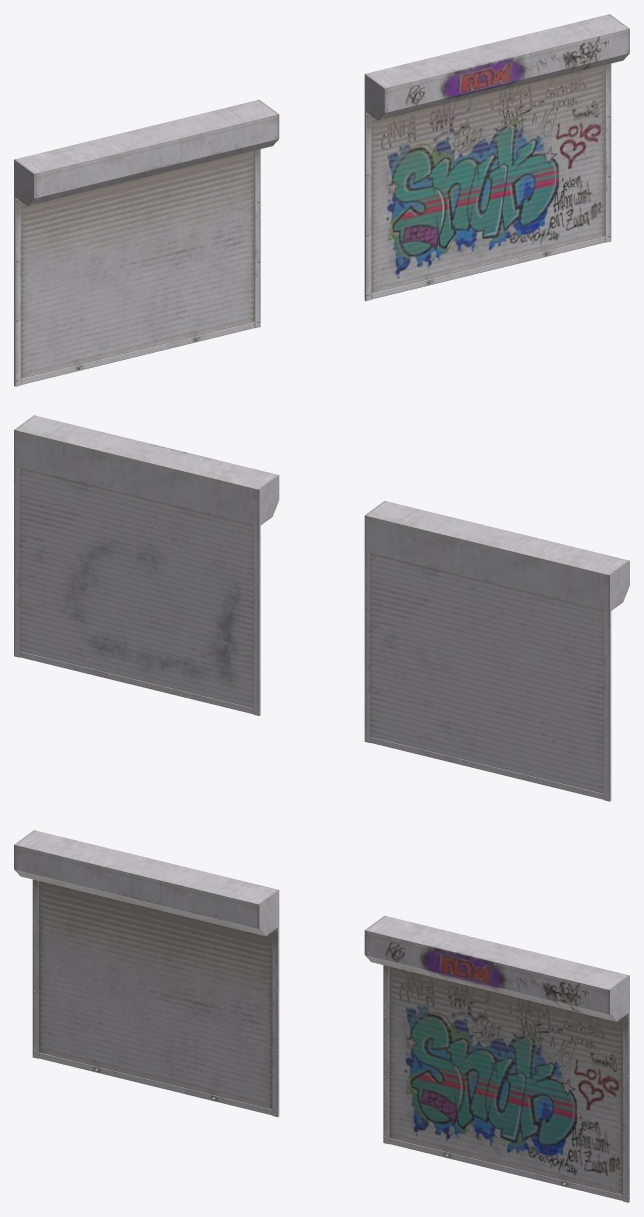
Rendered from rollershutter_window_01.glb.
3 views of the same model, one above another, from view 1: azimuth 30°, elevation 25°; view 2: azimuth 150°, elevation 25°; view 3: azimuth 330°, elevation 25° (orthographic).
Parts seen in each view (by area): view 1: rollershutter_window_01_graffiti, rollershutter_window_01; view 2: rollershutter_window_01, rollershutter_window_01_graffiti; view 3: rollershutter_window_01, rollershutter_window_01_graffiti.
Part boxes in pixels (x1,y1,x2,y2): rollershutter_window_01_graffiti: [364, 14, 629, 301]; rollershutter_window_01: [14, 99, 279, 386]; rollershutter_window_01: [364, 501, 629, 801]; rollershutter_window_01_graffiti: [14, 415, 279, 715]; rollershutter_window_01: [14, 830, 279, 1117]; rollershutter_window_01_graffiti: [364, 915, 629, 1202].
Bounding box in the file's own units: 5.1 × 1.85 × 0.3001.
2 materials, 2 textured.
